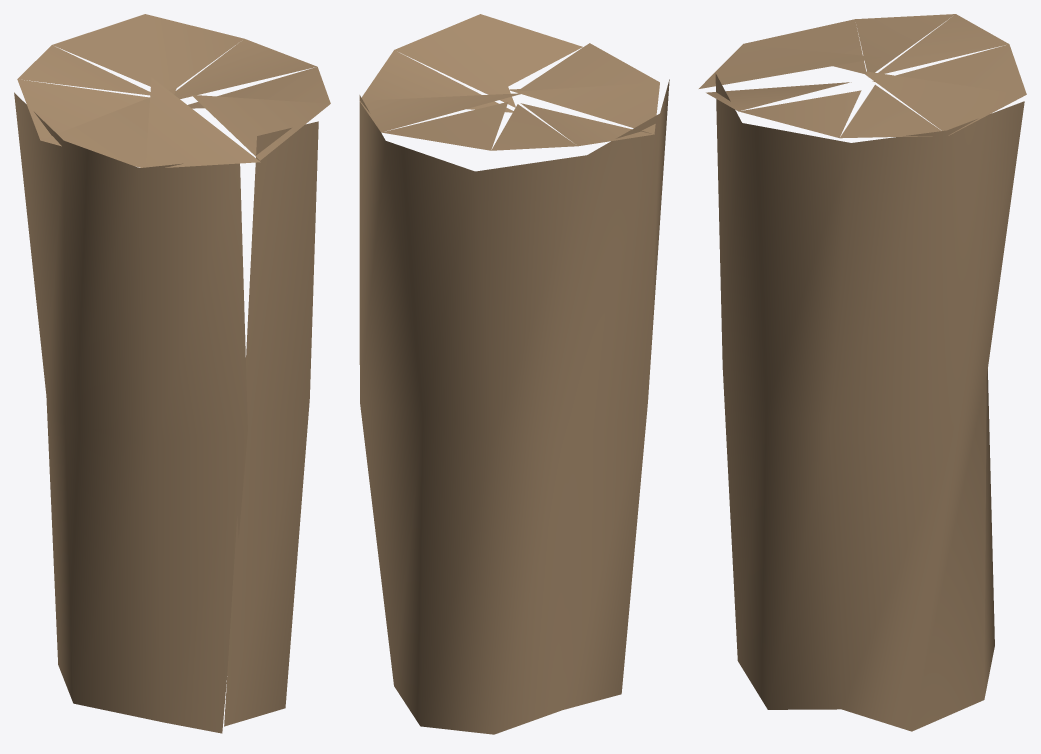
The model's file is driftwood.glb.
The picture shows the model from 3 angles, left to right: view 1: azimuth 30°, elevation 25°; view 2: azimuth 150°, elevation 25°; view 3: azimuth 270°, elevation 25°; orthographic projection.
Parts seen in each view (by area): view 1: driftwood; view 2: driftwood; view 3: driftwood.
Boxes of the visible parts, bbox=[...] form: driftwood: bbox=[14, 14, 330, 733]; driftwood: bbox=[359, 14, 669, 734]; driftwood: bbox=[699, 14, 1026, 731].
Bounding box in the file's own units: 0.4795 × 1.05 × 0.5015.
